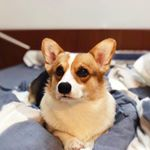puppy: (31, 33, 125, 150)
